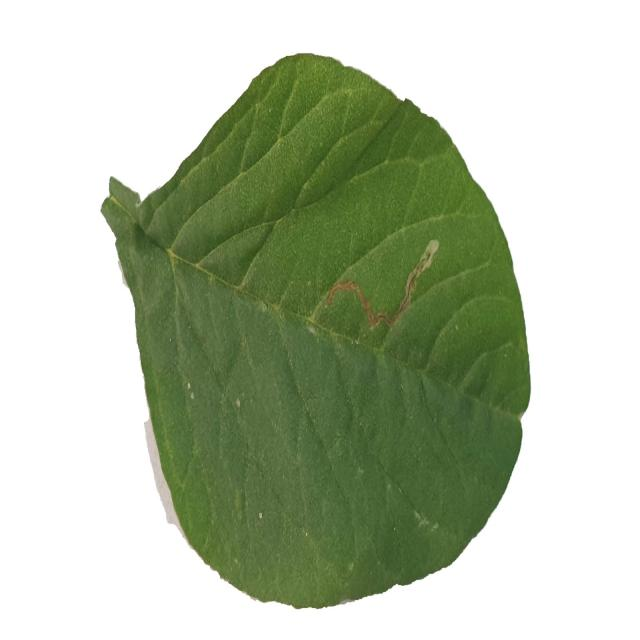Medicinal-Arive Dantu: (102, 52, 530, 610)
